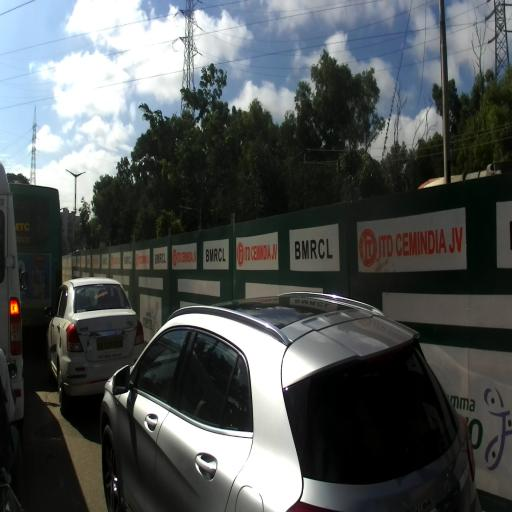street_light_0: (65, 168, 77, 180), (74, 170, 86, 181), (60, 205, 68, 211)
